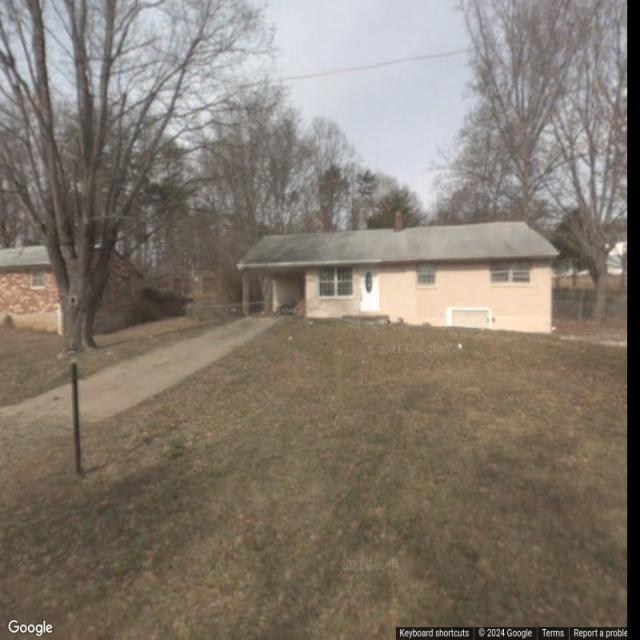House: (236, 210, 562, 334), (0, 234, 145, 335)
